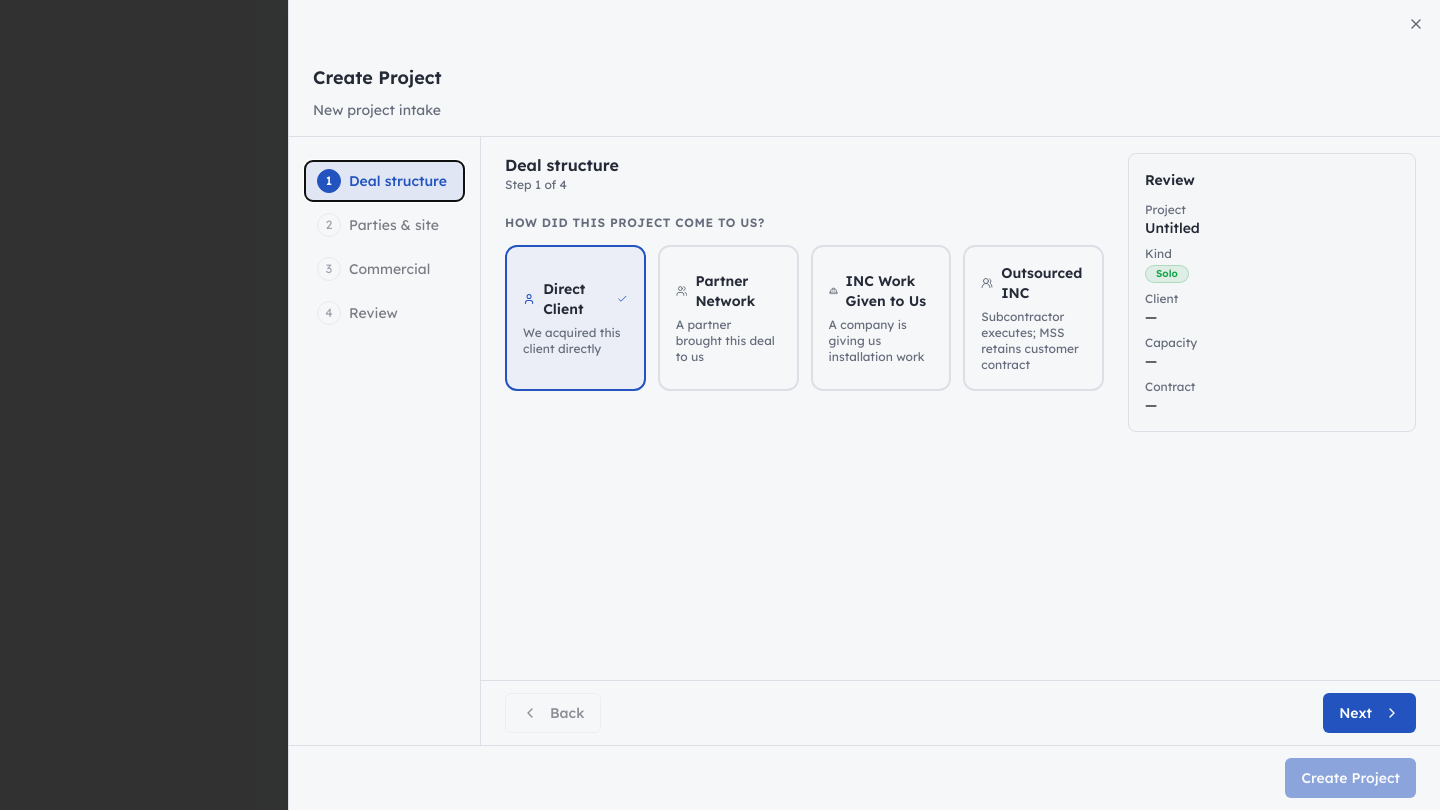
CreateProjectWizard › navigates Next from deal structure to parties when lead path is selected
Check: the element with test id "wizard-step-content-DEAL_TYPE" is shown, box [505, 209, 1104, 391]
Click the button with test id "wizard-next" at point(1370, 713), box [1323, 693, 1416, 733]
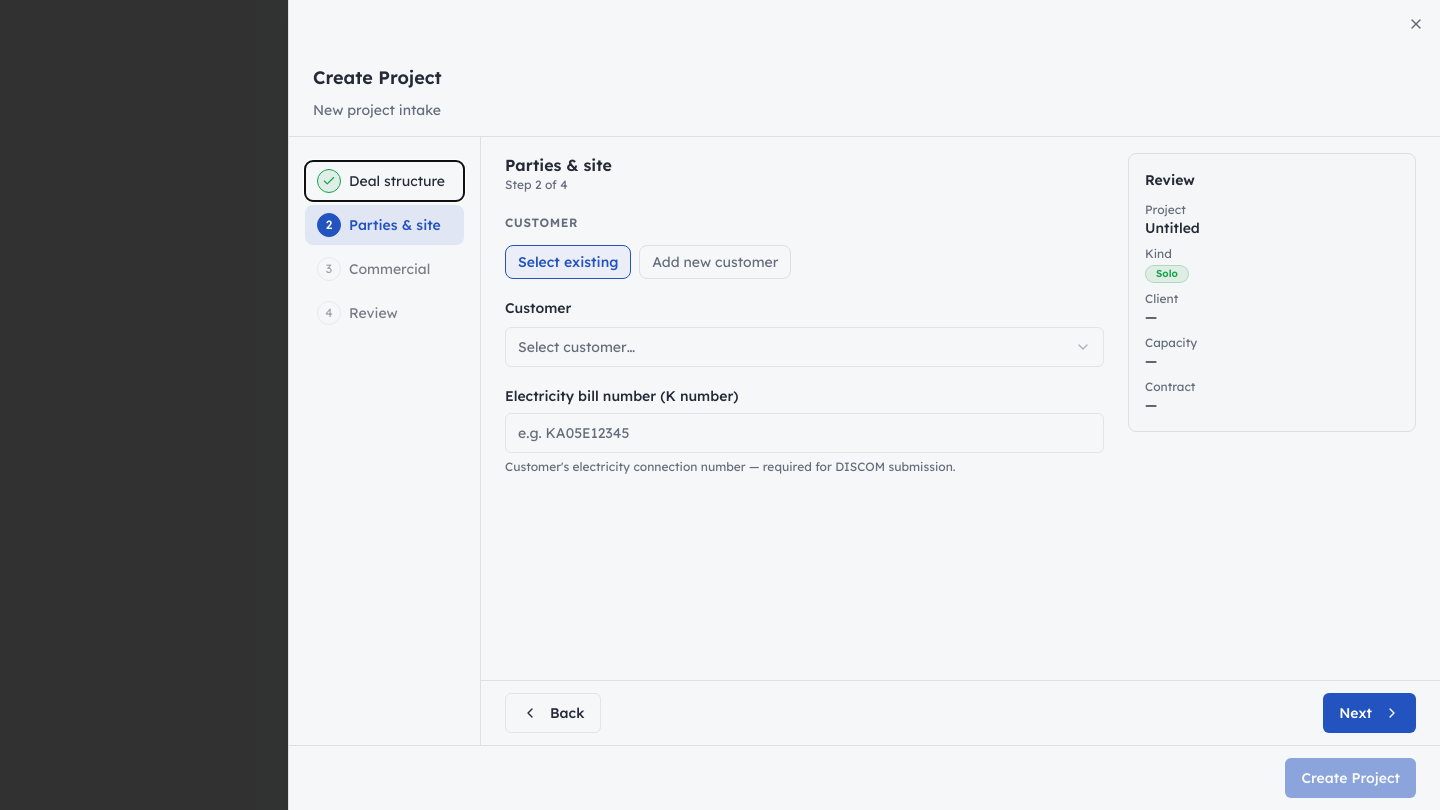
Check: the element with test id "wizard-step-content-PARTIES" is shown, box [505, 209, 1104, 475]
Check: the heading with test id "wizard-step-heading" reads "Parties & site", box [505, 155, 612, 175]
